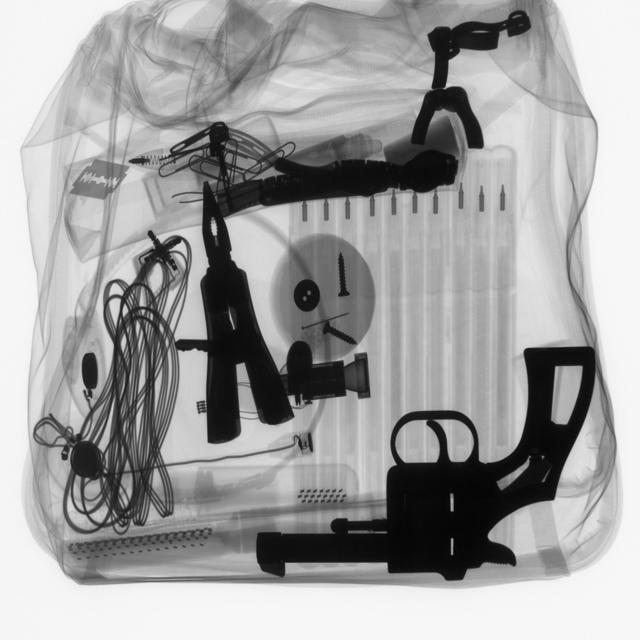gun: (247, 341, 602, 581)
knife: (192, 178, 296, 445)
razor: (68, 156, 130, 208)
